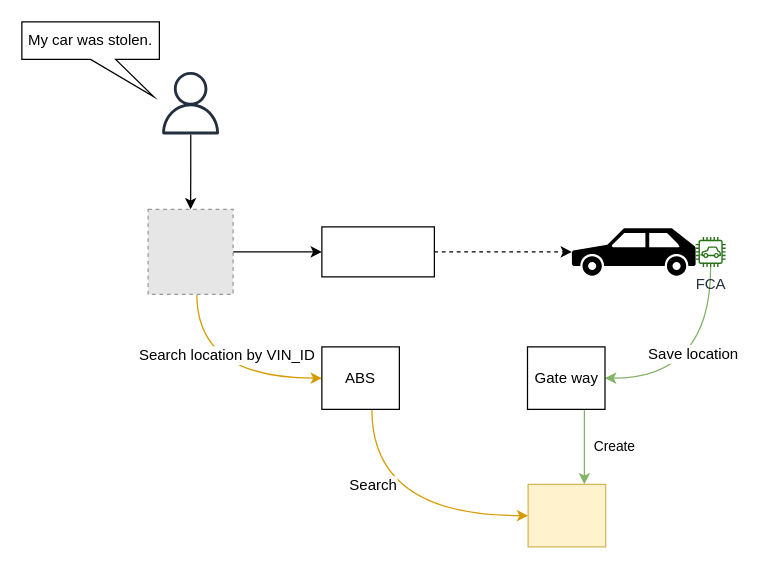
Some shapes in this 759 by 569 pixel diagram are drawn without their labels. Grey dashed boxes stand in for pictures. The shapes that lost their labels are listed below. From the top down, each one's centre as x and y in pixels, then its label:
At point (377, 251): "GPS Activator".
At point (566, 515): "SVT".
